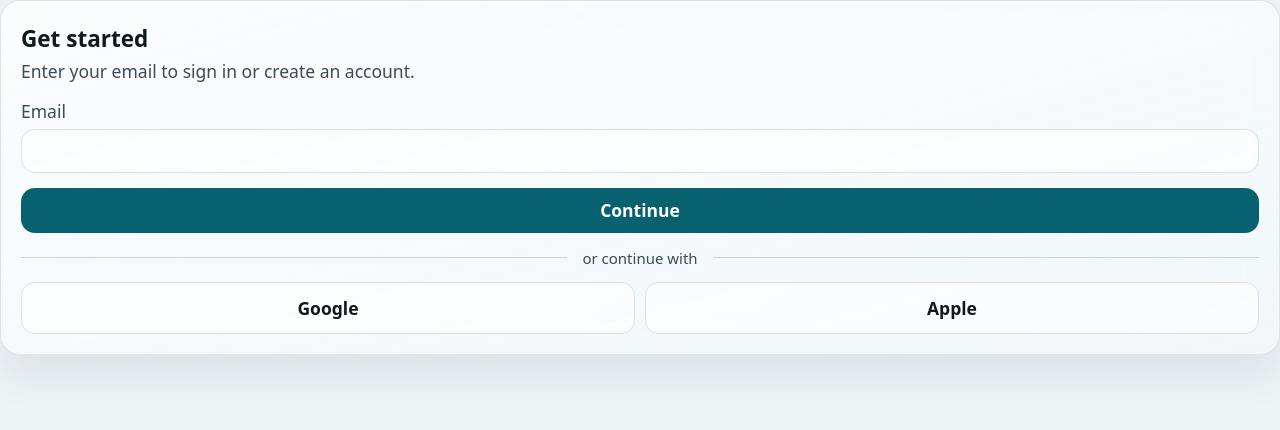
Scenario: SignInForm › goes back to the email step without losing the typed email
Type "back@example.com" into the field labelled "Email".
click(640, 150); type("back@example.com")  # box [21,128,1259,172]
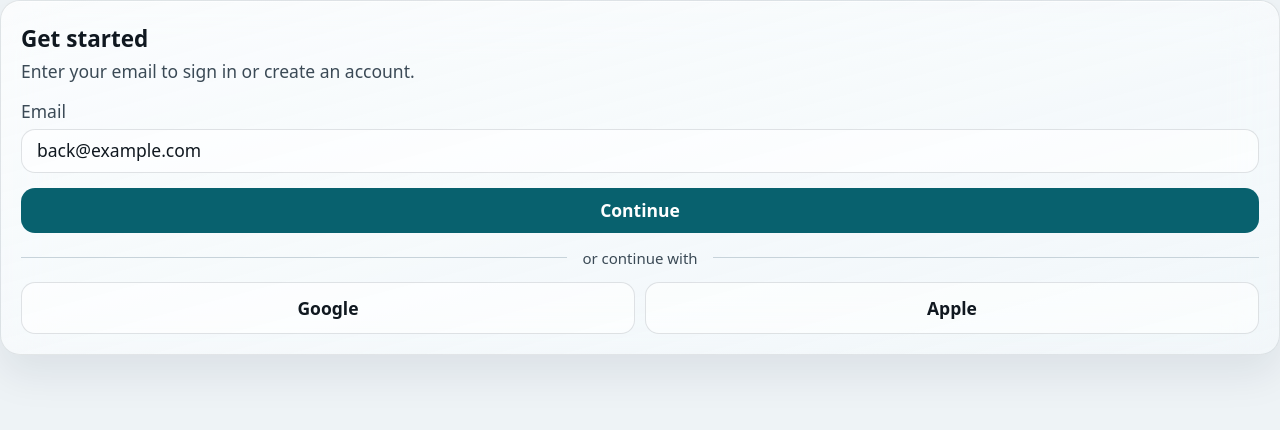
Click the button "Continue".
click(640, 210)  # box [21,188,1259,232]
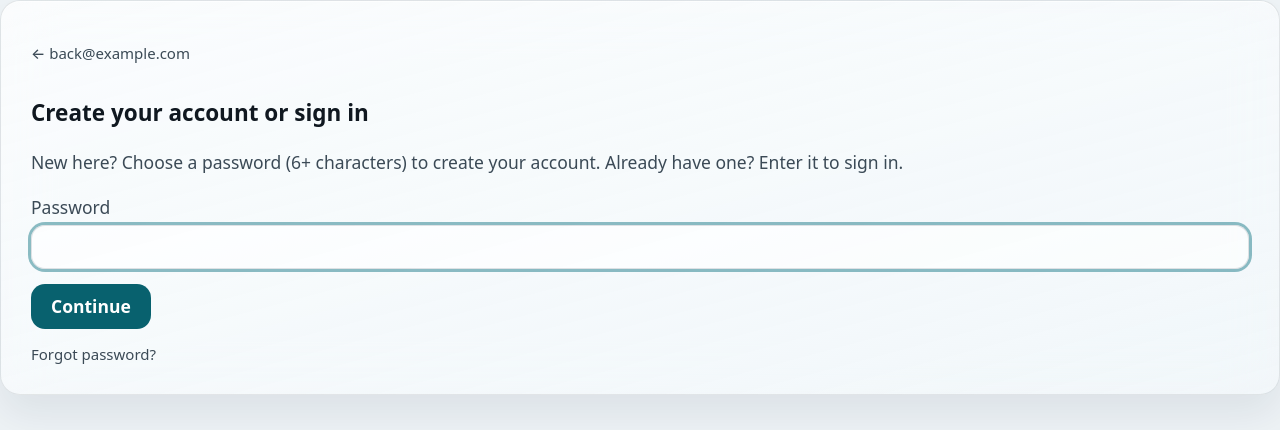
expect the button "← back@example.com" is shown: met
Click the button "← back@example.com".
click(110, 53)  # box [31,31,190,75]
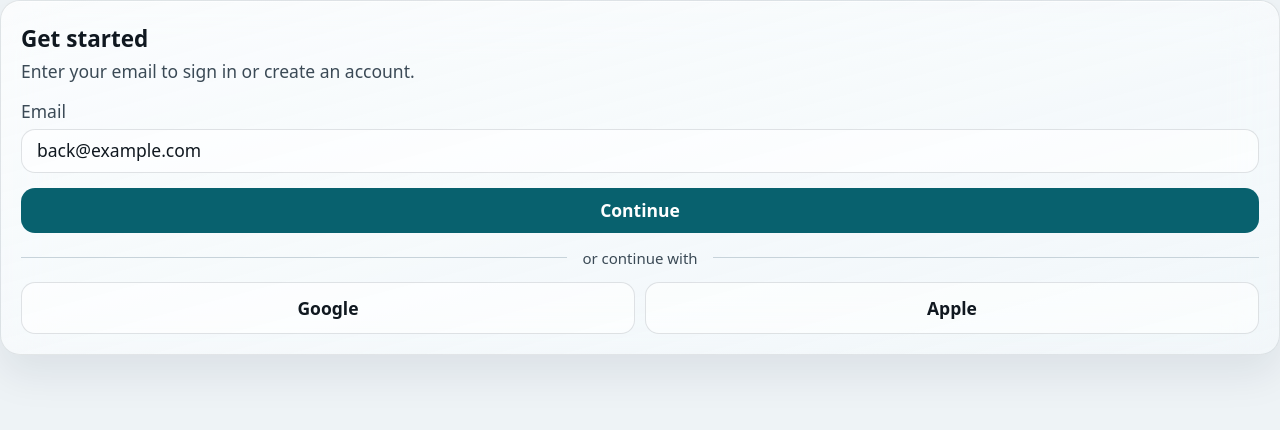
expect the field labelled "Email" holds "back@example.com": met, box [21,128,1259,172]
expect the text labelled "password" is gone: met
